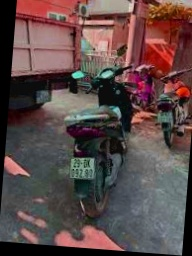Bien-so: (72, 172, 102, 194), (161, 116, 177, 130)
